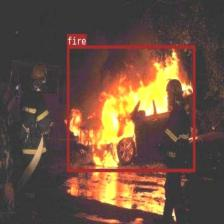fire: (67, 45, 194, 171)
